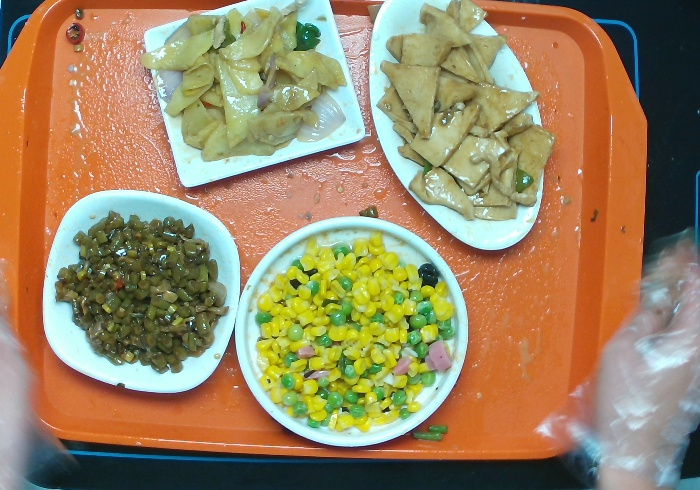HZYJPL-Si_Fang_Die: (138, 3, 365, 192)
HZYJPL-Si_Fang_Yuan_Die: (39, 187, 239, 401)
HZYJPL-Xiao_Yu_Die: (363, 1, 549, 254)
HZYJPL-Xiao_Yuan_Die: (231, 214, 471, 446)
